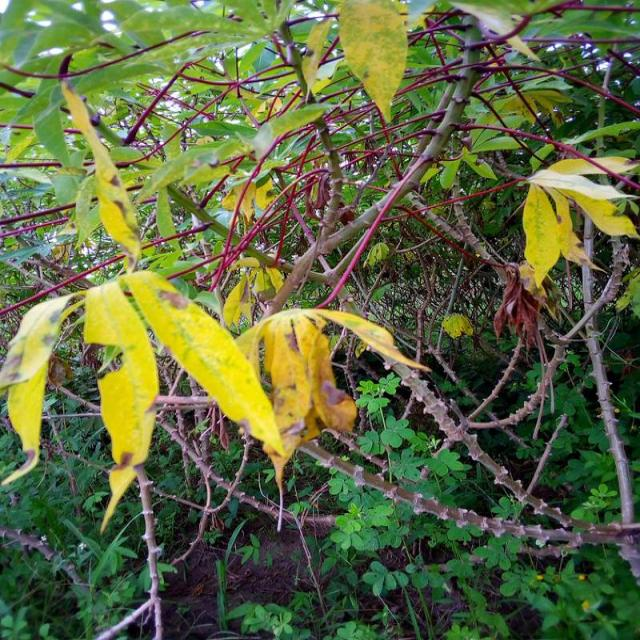cassava leaf: (118, 267, 285, 458), (82, 278, 159, 532), (520, 155, 638, 292), (0, 292, 82, 486), (337, 0, 409, 124)
